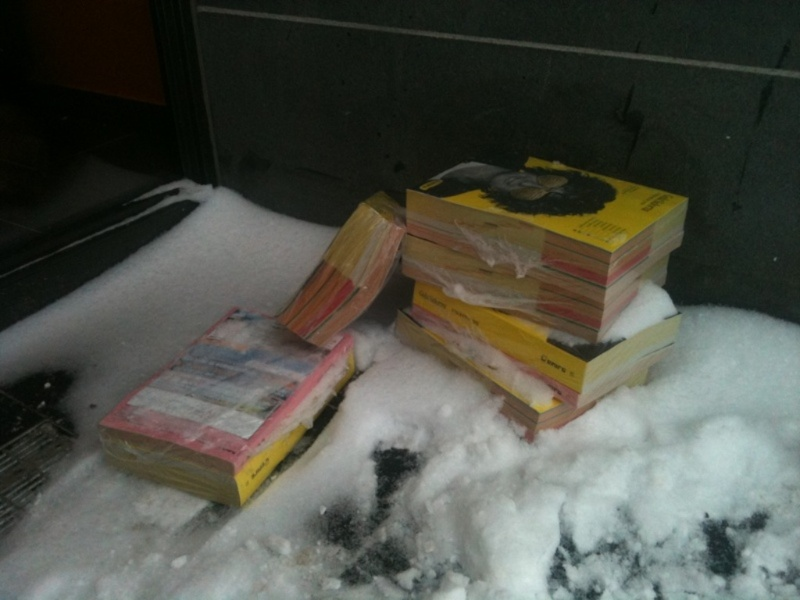book: (409, 148, 684, 428), (104, 299, 356, 511), (282, 175, 409, 337)
